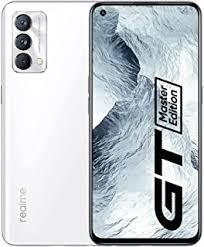Smartphone: (91, 2, 201, 245), (9, 5, 91, 242)
